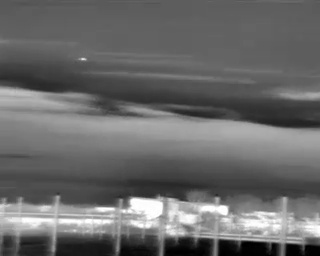BIRD: (76, 54, 89, 65)
